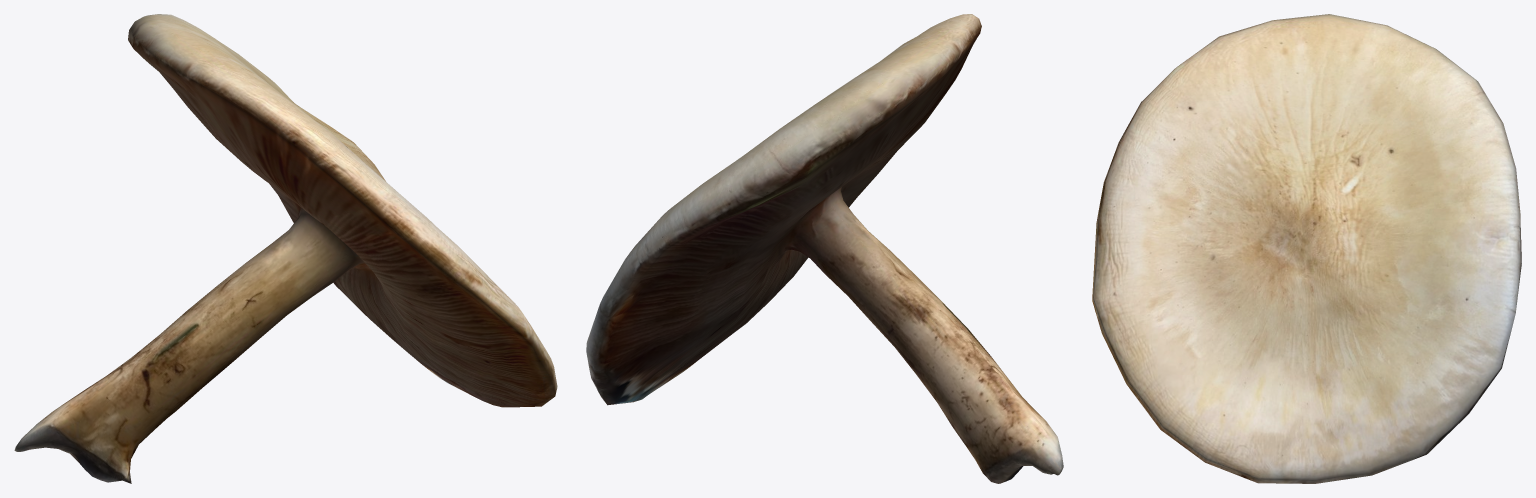
Rendered from mushroom_parasol.glb.
3 renders of one model, left to right at view 1: azimuth 30°, elevation 25°; view 2: azimuth 150°, elevation 25°; view 3: azimuth 270°, elevation 25°, orthographic. The views are drawn at different scales.
Parts seen in each view (by area): view 1: mushroom_parasol; view 2: mushroom_parasol; view 3: mushroom_parasol.
Part boxes in pixels (box(x1,y1,x2,y2)): mushroom_parasol: box(14, 14, 557, 483); mushroom_parasol: box(586, 14, 1063, 483); mushroom_parasol: box(1092, 14, 1521, 483).
Size of the model in its own units: 2.47 by 2.2 by 2.41.
1 material, 1 textured.
